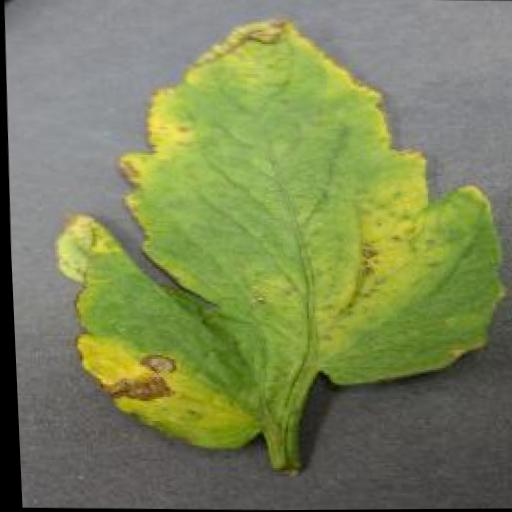Bacterial Spot: (42, 12, 512, 461)
